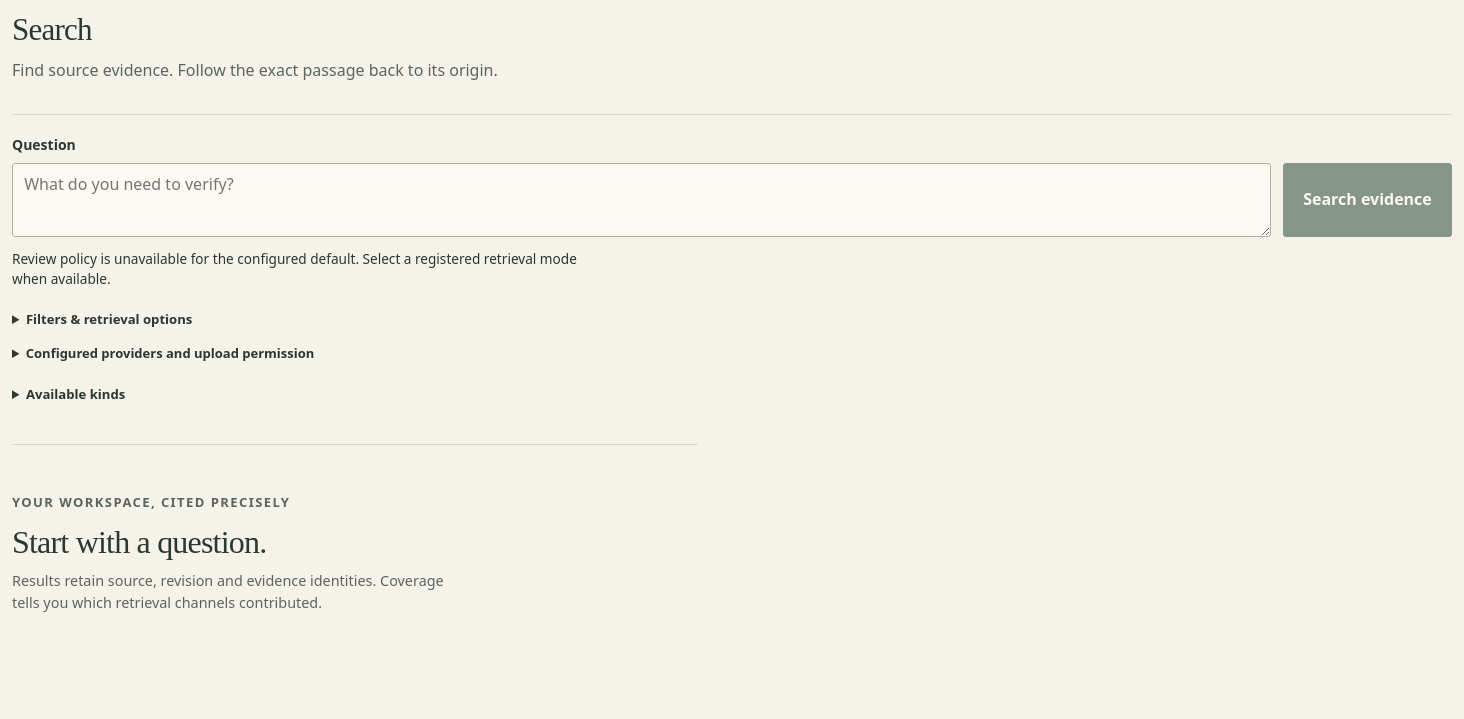
Scenario: selects actual visual-only OCR without inventing a Segment or citable quote
Type "OCR" into the text box labelled "Question" at (641, 200), box left=12, top=162, right=1271, bottom=236
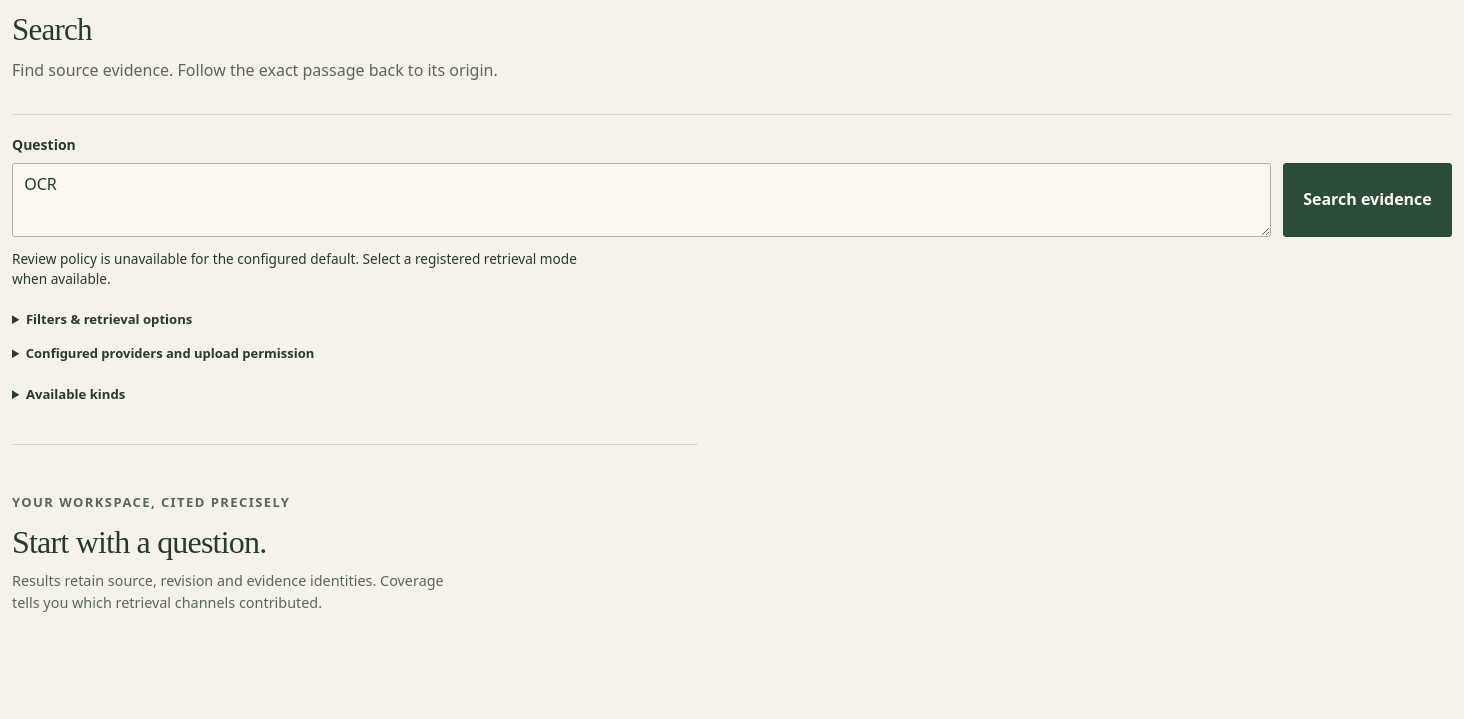
Click the button "Search evidence" at (1367, 200), box left=1283, top=162, right=1452, bottom=236
(page scrolled)
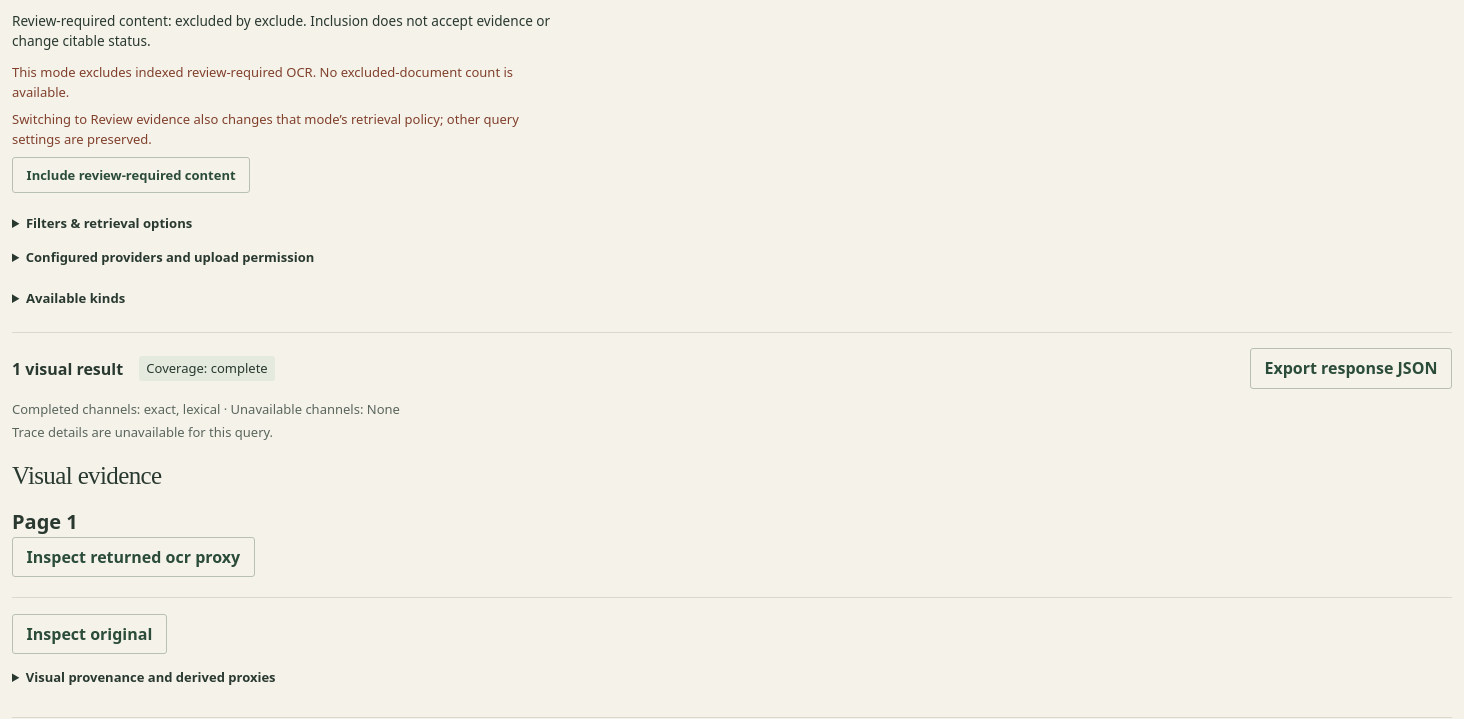
Click the button "Inspect returned ocr proxy" at (133, 557), box left=12, top=537, right=255, bottom=577
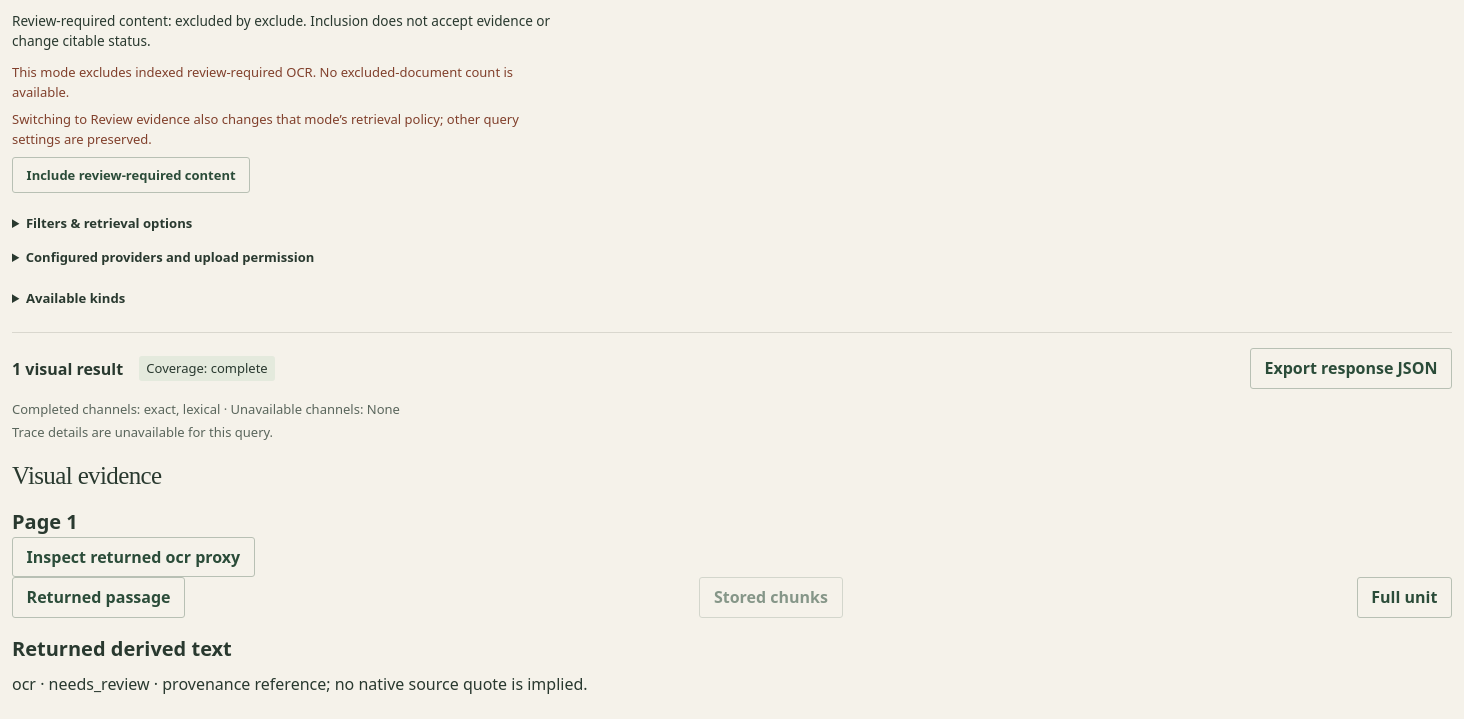
Expected: the text "1 visual result" is shown, left=12, top=357, right=123, bottom=381
Expected: the heading "Page 1" is shown, left=12, top=508, right=78, bottom=535
Expected: the button "Stored chunks" is disabled, left=699, top=577, right=842, bottom=618
Click the button "Full unit" at (1404, 598), box left=1357, top=577, right=1452, bottom=618
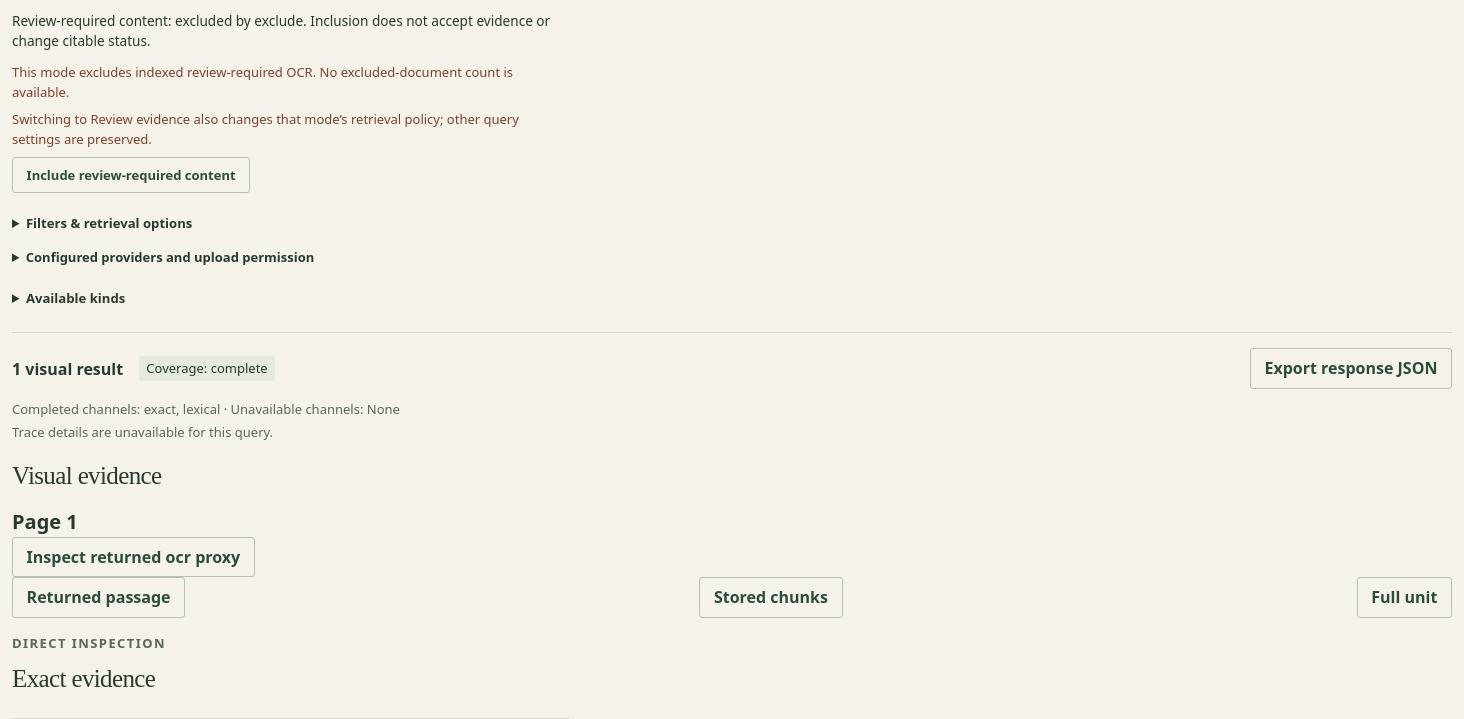
Expected: the button "Stored chunks" is enabled, left=699, top=577, right=842, bottom=618
